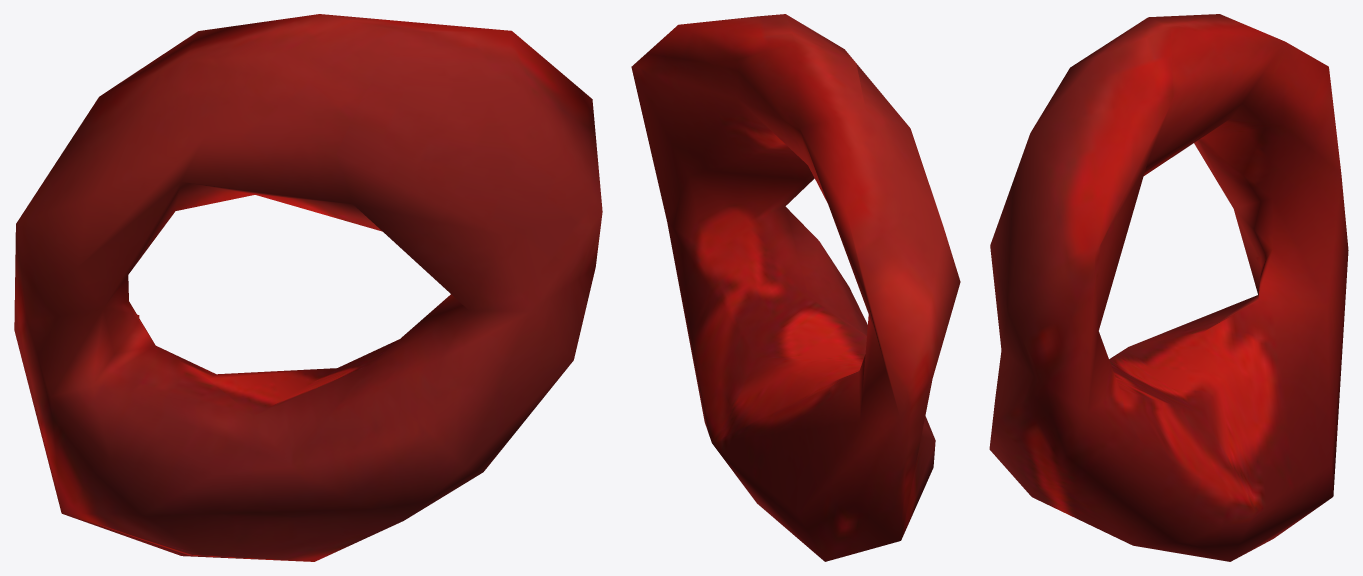
Rendered from Face_Mucle_10.glb.
3 renders of one model, left to right at view 1: azimuth 30°, elevation 25°; view 2: azimuth 150°, elevation 25°; view 3: azimuth 270°, elevation 25°, orthographic. The views are drawn at different scales.
Visible parts, largest first — view 1: Face_Mucle_10; view 2: Face_Mucle_10; view 3: Face_Mucle_10.
Part boxes in pixels (bbox=[...]): Face_Mucle_10: bbox=[14, 14, 602, 561]; Face_Mucle_10: bbox=[631, 14, 960, 561]; Face_Mucle_10: bbox=[989, 14, 1348, 561].
Size of the model in its own units: 0.0826 by 0.0945 by 0.0558.
1 material, 1 textured.
